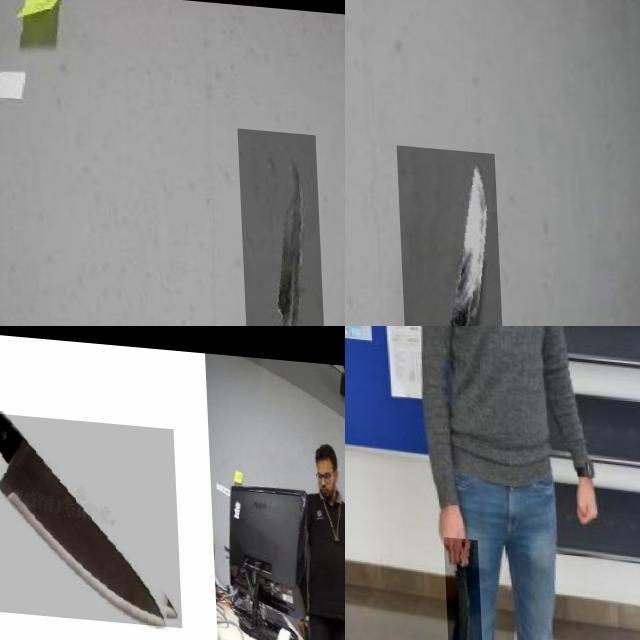-: (0, 409, 179, 622), (394, 138, 507, 326), (236, 122, 329, 326), (440, 530, 478, 640)
